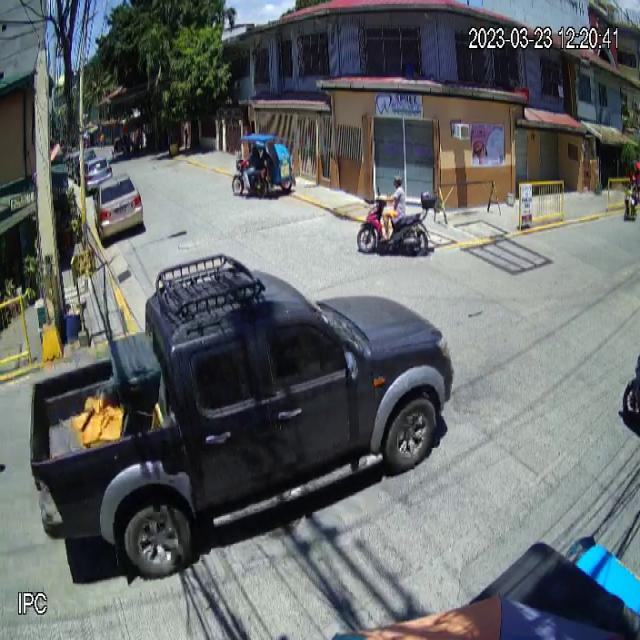Car: (25, 251, 451, 580)
Motorcycle: (356, 187, 434, 261)
Tricycle: (227, 132, 294, 202)
